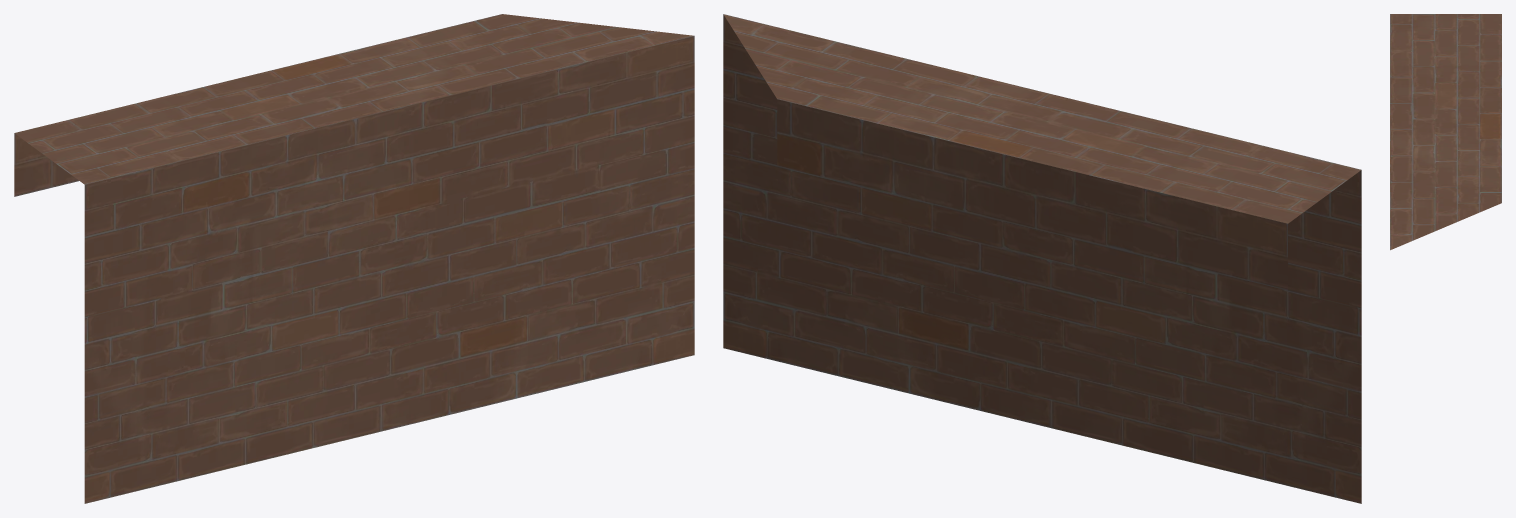
Rendered from Cornice_Brick_R.glb.
3 views of the same model, side by side, from view 1: azimuth 30°, elevation 25°; view 2: azimuth 150°, elevation 25°; view 3: azimuth 270°, elevation 25° (orthographic). The views are drawn at different scales.
Visible parts, largest first — view 1: Cornice_Brick_R; view 2: Cornice_Brick_R; view 3: Cornice_Brick_R.
Part boxes in pixels (<box>): Cornice_Brick_R: <box>14,14,694,503</box>; Cornice_Brick_R: <box>723,14,1361,503</box>; Cornice_Brick_R: <box>1390,14,1501,250</box>.
Size of the model in its own units: 2 by 1 by 0.3999.
1 material, 1 textured.
